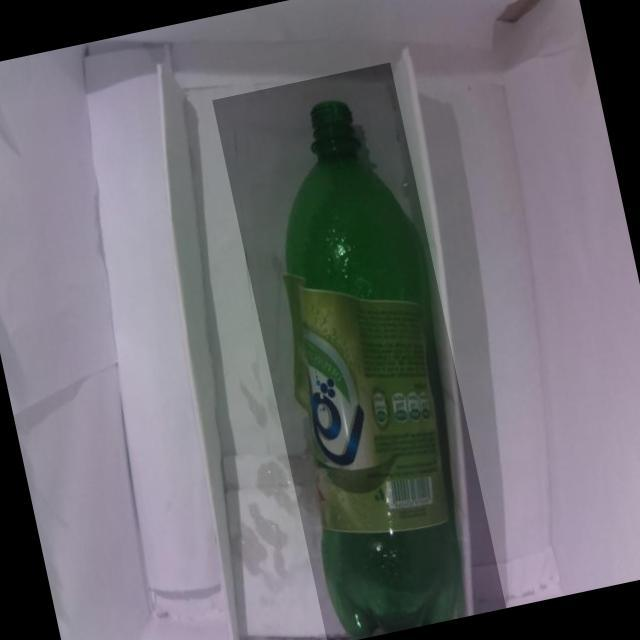good: (212, 61, 506, 640)
